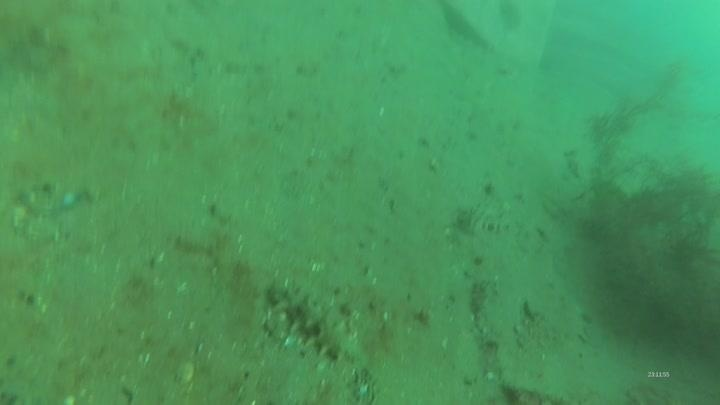holothurian: (266, 275, 373, 371), (454, 200, 517, 236)
